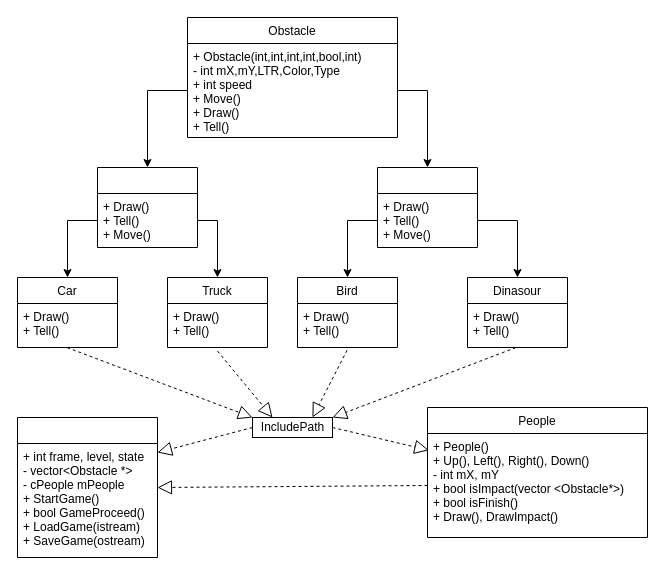
This 665x578 diagram has some shape labels left out. The shapes that lost their labels are listed below. From the top down, each one's box as (x1, y1, x2, y2) in pixels, then its label:
(96, 166, 198, 248): Vehicle
(376, 166, 478, 248): Animal
(16, 416, 158, 558): cGame
